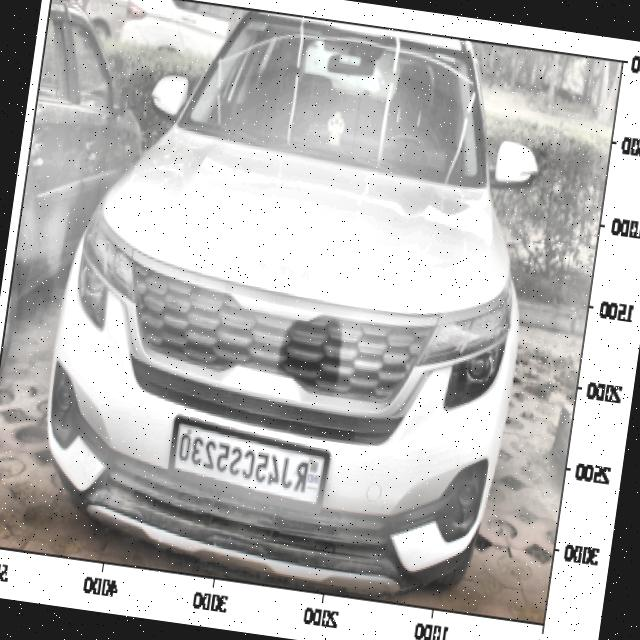license_plate: (168, 423, 318, 498)
